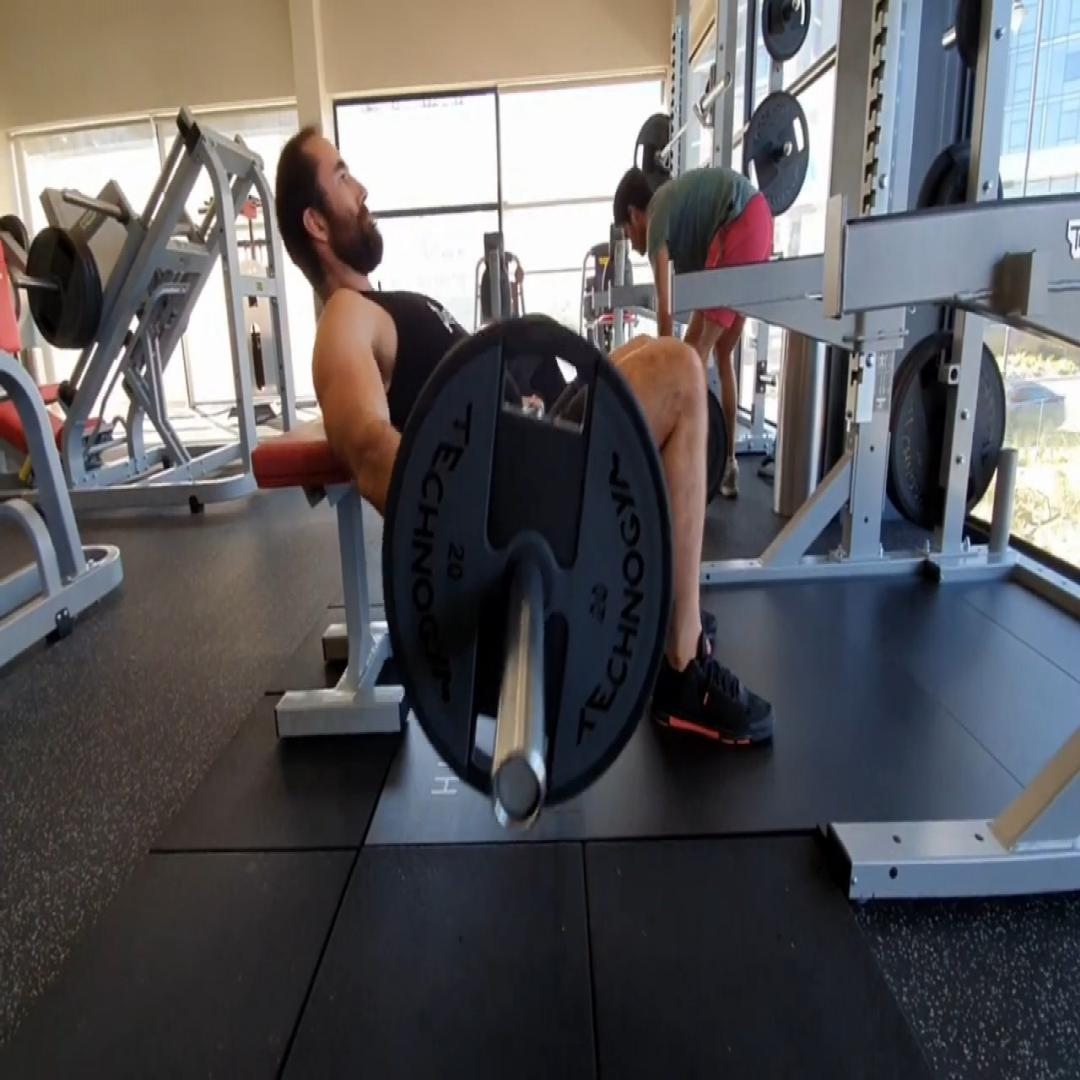Bar: (490, 750, 544, 831)
Barbell: (382, 315, 674, 810)
